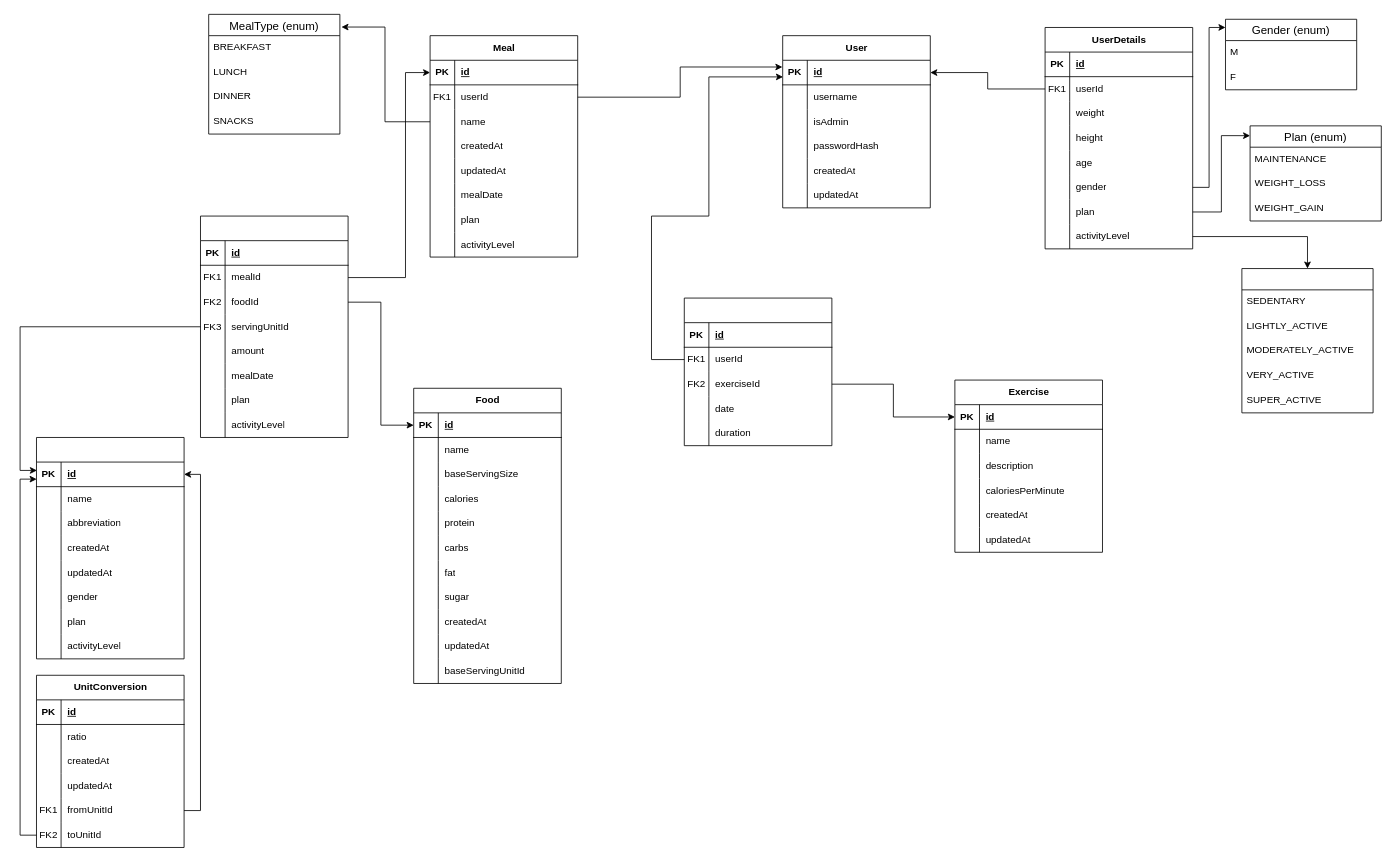
Some shapes in this 1396 by 862 pixel diagram are drawn without their labels. The shapes that lost their labels are listed below. From the top down, each one's box as (x1, y1, x2, y2) in pixels, then its label:
(200, 215, 348, 437): MealItem
(1241, 268, 1373, 413): ActivityLevel (enum)
(683, 297, 832, 446): UserExercise
(36, 437, 184, 659): ServingUnit
